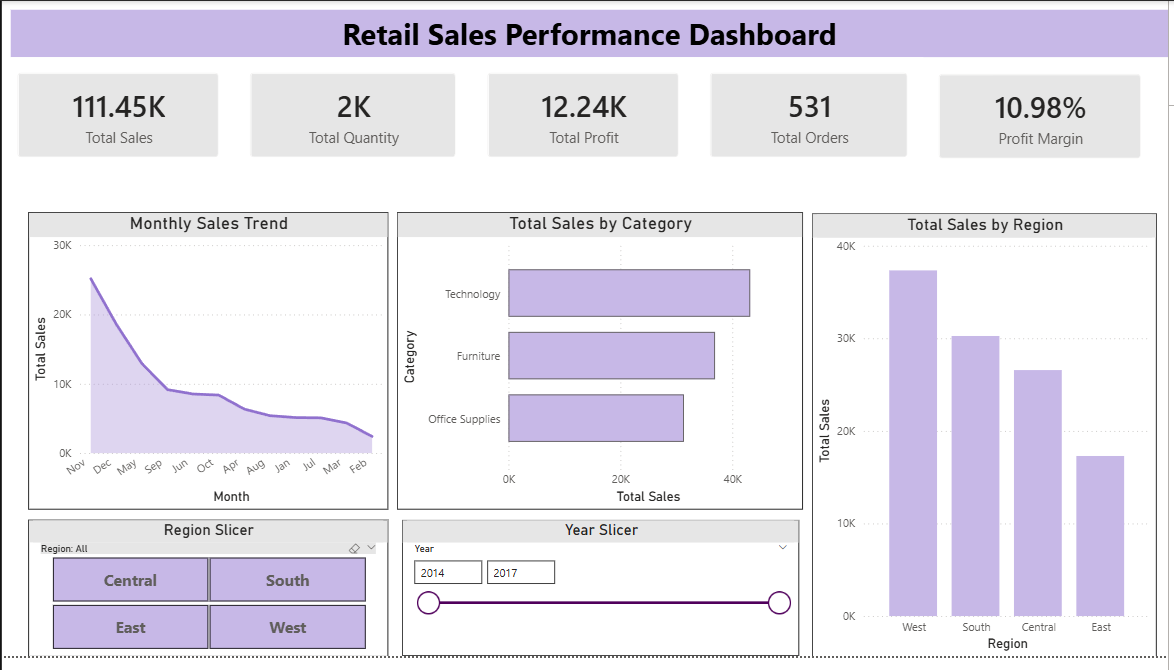

Layout of this report page (visuals, bound fields, positions):
{"tool":"powerbi","page":{"name":"Executive Overview","canvas":[1280,720],"ordinal":0},"visuals":[{"type":"textbox","box":[9.6,9.6,1270.7,52.1],"z":0},{"type":"cardVisual","fields":{"Data":["Sample - Superstore.Total Sales"]},"box":[0,61.7,255.2,127.6],"z":1},{"type":"lineChart","title":"Monthly Sales Trend","fields":{"Y":["Sample - Superstore.Total Sales"],"Category":["Date Table.Month"]},"box":[28.8,231.9,395.2,326.6],"z":7},{"type":"clusteredBarChart","fields":{"Category":["Sample - Superstore.Category"],"Y":["Sample - Superstore.Total Sales"]},"box":[433.6,231.9,446,326.6],"z":8},{"type":"clusteredColumnChart","fields":{"Category":["Sample - Superstore.Region"],"Y":["Sample - Superstore.Total Sales"]},"box":[889.2,233.3,378.7,487.1],"z":9},{"type":"slicer","title":"Year Slicer","fields":{"Values":["Date Table.Year"]},"box":[439.1,569.5,436.4,149.6],"z":10},{"type":"slicer","title":"Region Slicer","fields":{"Values":["Sample - Superstore.Region"]},"box":[29,570,395,150],"z":11},{"type":"cardVisual","fields":{"Data":["Sample - Superstore.Total Quantity"]},"box":[255.2,61.7,260.7,127.6],"z":12},{"type":"cardVisual","fields":{"Data":["Sample - Superstore.Total Profit"]},"box":[516,61.7,244.3,127.6],"z":13},{"type":"cardVisual","fields":{"Data":["Sample - Superstore.Total Orders"]},"box":[760.2,61.7,251.1,127.6],"z":14},{"type":"cardVisual","fields":{"Data":["Sample - Superstore.Profit Margin"]},"box":[1011.3,63.1,256.6,127.6],"z":15}]}

Visuals, with their boxes in screenshot pixels (x1, y1, x2, y2), scaled from the page's 1280x720 canvas onto the 1174x670 screenshot:
textbox: (left=9, top=9, right=1173, bottom=57)
cardVisual - Sample - Superstore.Total Sales: (left=0, top=57, right=234, bottom=176)
"Monthly Sales Trend" lineChart: (left=26, top=216, right=389, bottom=520)
clusteredBarChart - Sample - Superstore.Category x Sample - Superstore.Total Sales: (left=398, top=216, right=807, bottom=520)
clusteredColumnChart - Sample - Superstore.Region x Sample - Superstore.Total Sales: (left=816, top=217, right=1163, bottom=669)
"Year Slicer" slicer: (left=403, top=530, right=803, bottom=669)
"Region Slicer" slicer: (left=27, top=530, right=389, bottom=669)
cardVisual - Sample - Superstore.Total Quantity: (left=234, top=57, right=473, bottom=176)
cardVisual - Sample - Superstore.Total Profit: (left=473, top=57, right=697, bottom=176)
cardVisual - Sample - Superstore.Total Orders: (left=697, top=57, right=928, bottom=176)
cardVisual - Sample - Superstore.Profit Margin: (left=928, top=59, right=1163, bottom=177)
